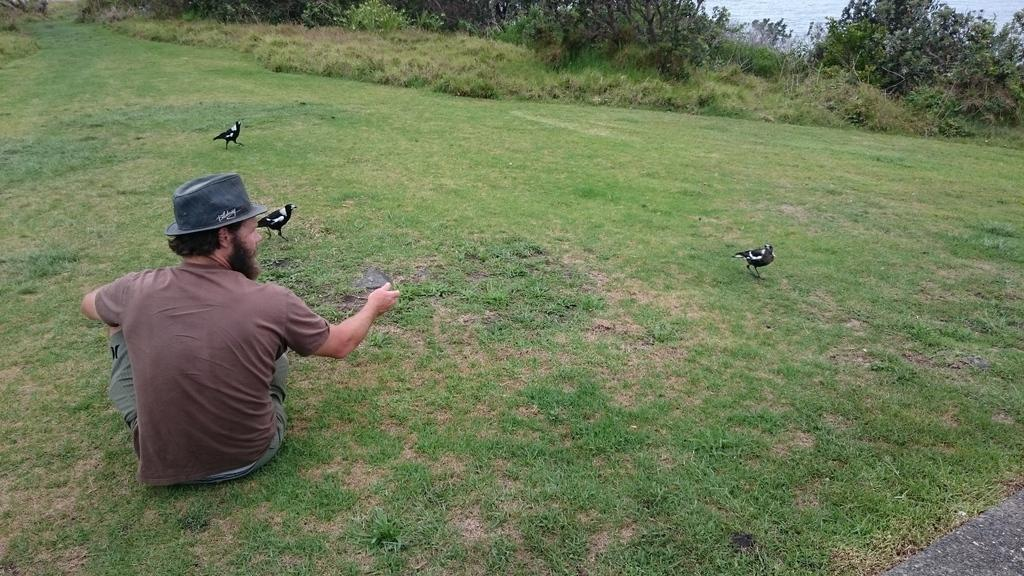Hat: (164, 172, 270, 236)
